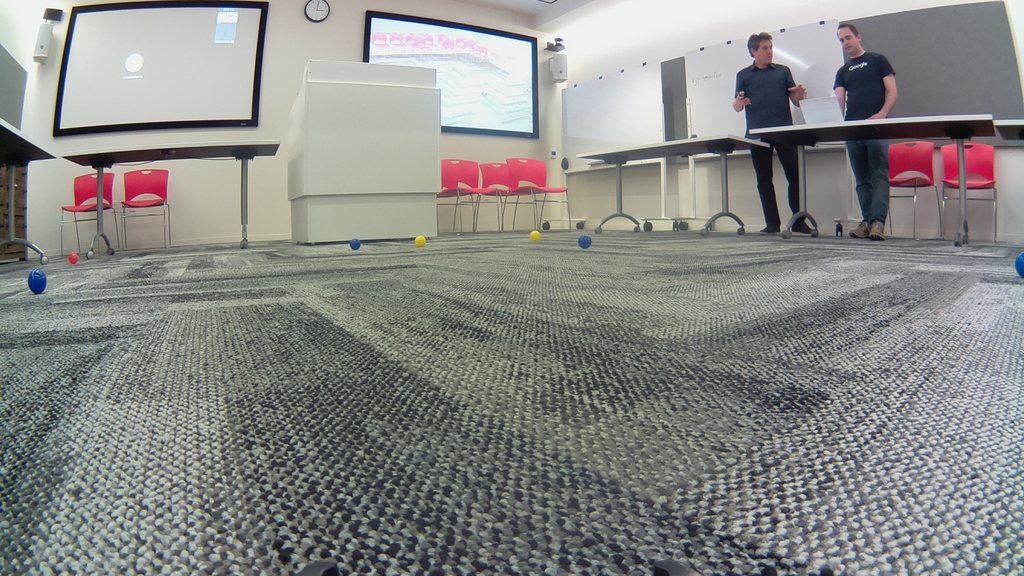ball: (29, 271, 43, 294)
